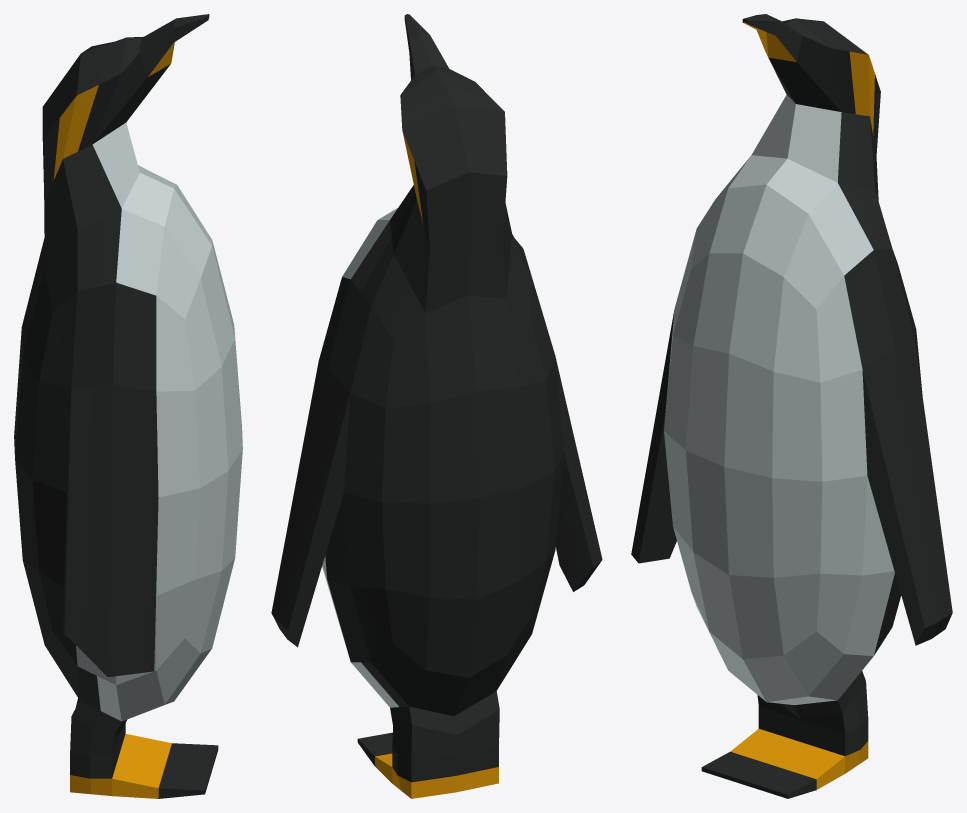
Rendered from penguin1.gltf.
3 renders of one model, left to right at view 1: azimuth 30°, elevation 25°; view 2: azimuth 150°, elevation 25°; view 3: azimuth 270°, elevation 25°, orthographic. The views are drawn at different scales.
Parts seen in each view (by area): view 1: Cube.023; view 2: Cube.023; view 3: Cube.023.
Part boxes in pixels (<box>): Cube.023: <box>14,14,242,798</box>; Cube.023: <box>271,14,602,798</box>; Cube.023: <box>631,14,952,798</box>.
Size of the model in its own units: 0.6366 by 2.04 by 0.7681.
